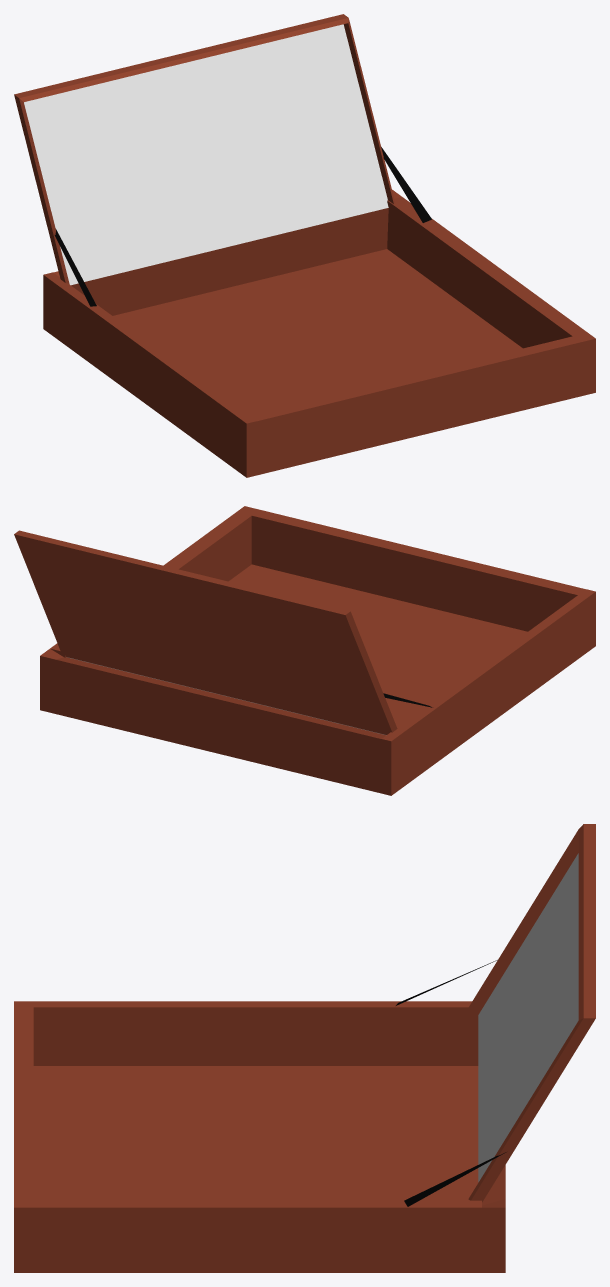
Rendered from JewelryHolder.fbx.
3 renders of one model, top to bottom at view 1: azimuth 30°, elevation 25°; view 2: azimuth 150°, elevation 25°; view 3: azimuth 270°, elevation 25°, orthographic. The views are drawn at different scales.
Parts seen in each view (by area): view 1: Cube.001, Plane; view 2: Cube.001; view 3: Cube.001.
Part boxes in pixels (box(x1,y1,x2,y2)): Cube.001: box(14, 14, 595, 477); Plane: box(381, 147, 431, 222); Cube.001: box(14, 506, 595, 795); Cube.001: box(14, 824, 595, 1272).
Size of the model in its own units: 1143 by 641 by 1365.
